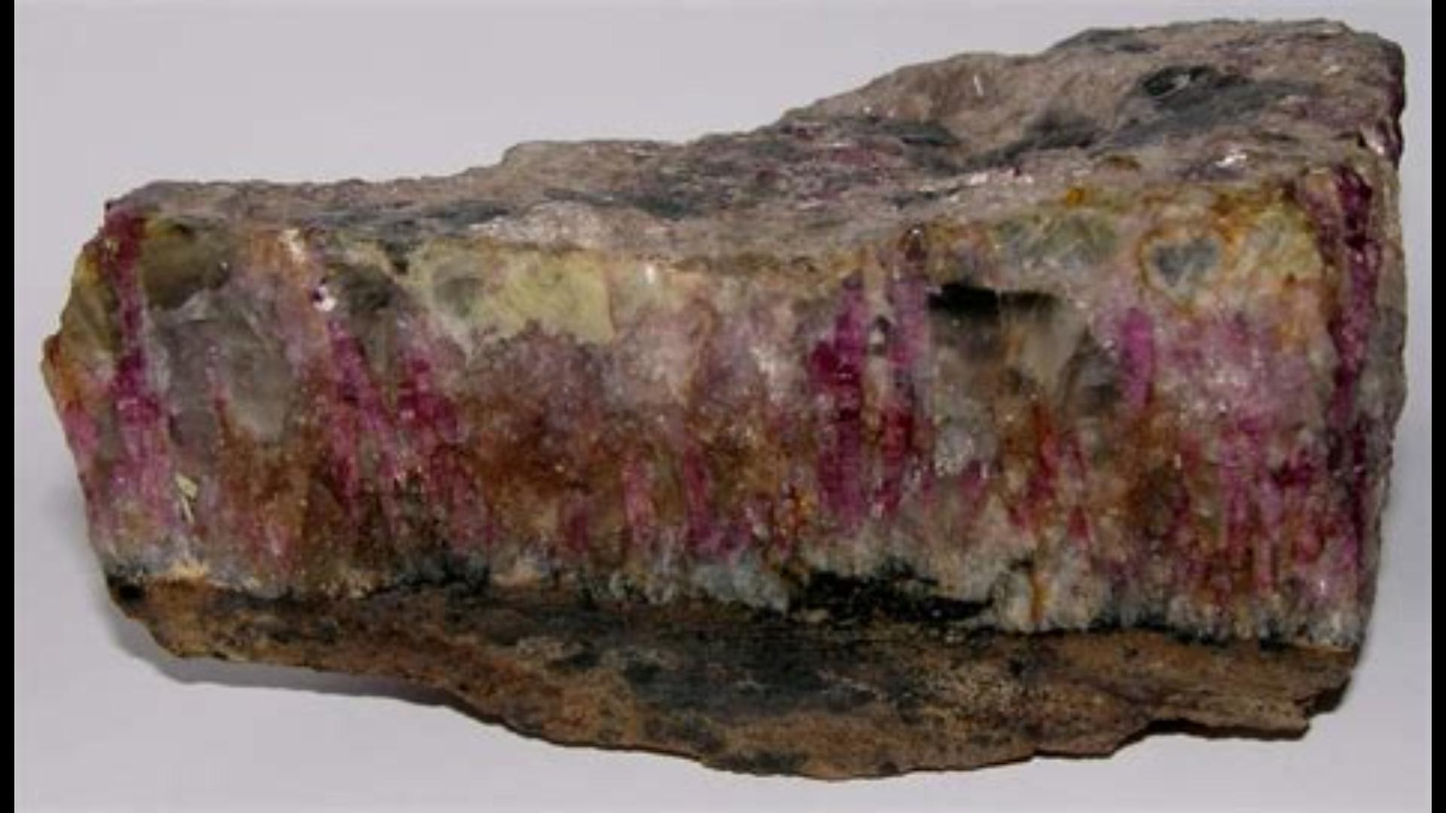rock: (44, 21, 1396, 771)
